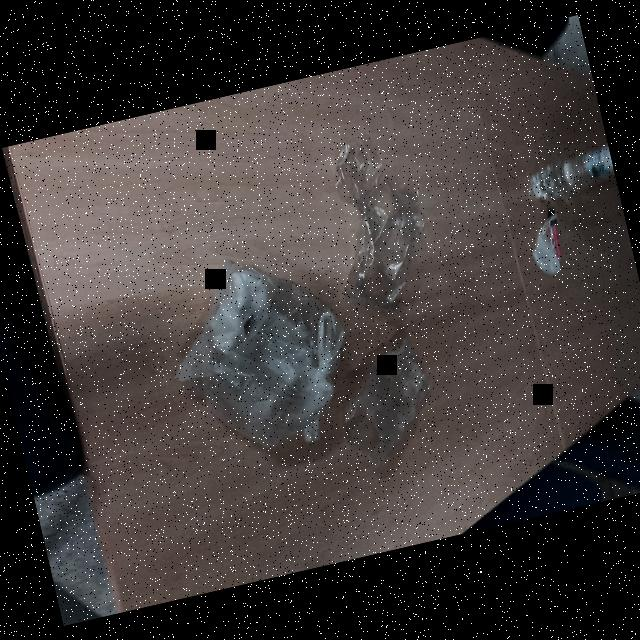plastic_bag: (140, 225, 361, 472), (320, 319, 457, 472)
